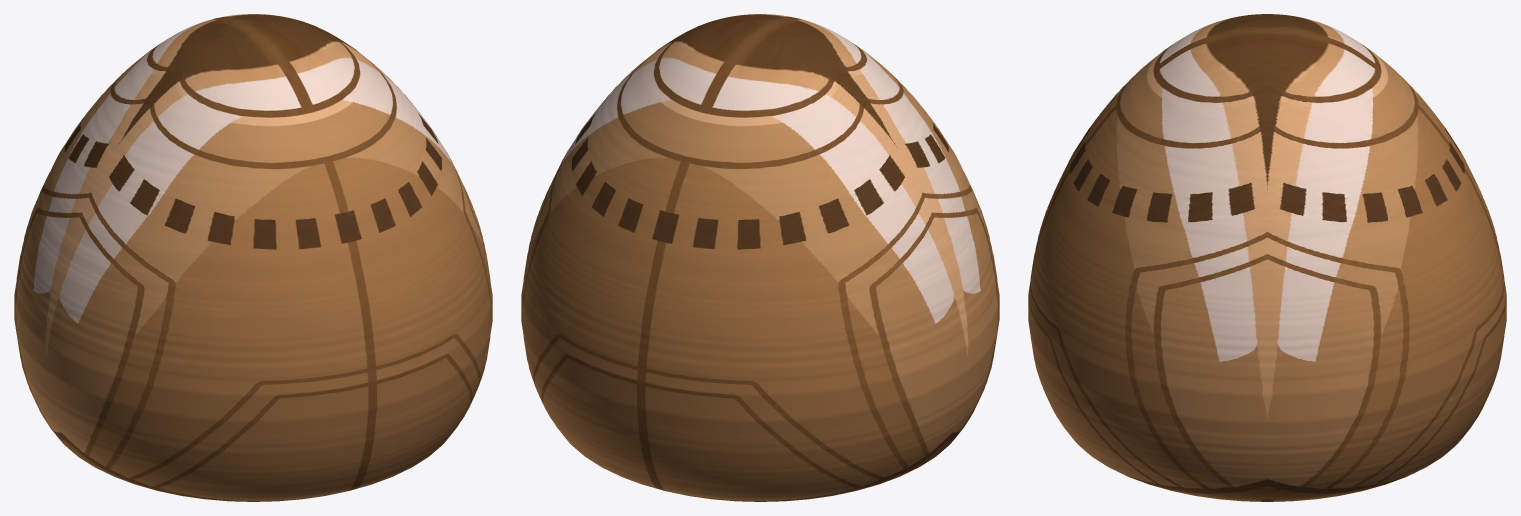
File: copper_dome.glb
3 renders of one model, left to right at view 1: azimuth 30°, elevation 25°; view 2: azimuth 150°, elevation 25°; view 3: azimuth 270°, elevation 25°, orthographic.
Visible parts, largest first — view 1: copper_dome; view 2: copper_dome; view 3: copper_dome.
Boxes of the visible parts, box(x1,y1,x2,y2) form: copper_dome: box(14, 14, 492, 501); copper_dome: box(521, 14, 999, 501); copper_dome: box(1028, 14, 1506, 501).
Size of the model in its own units: 1 by 0.9568 by 1.
Materials: 1 (1 with a texture image).
